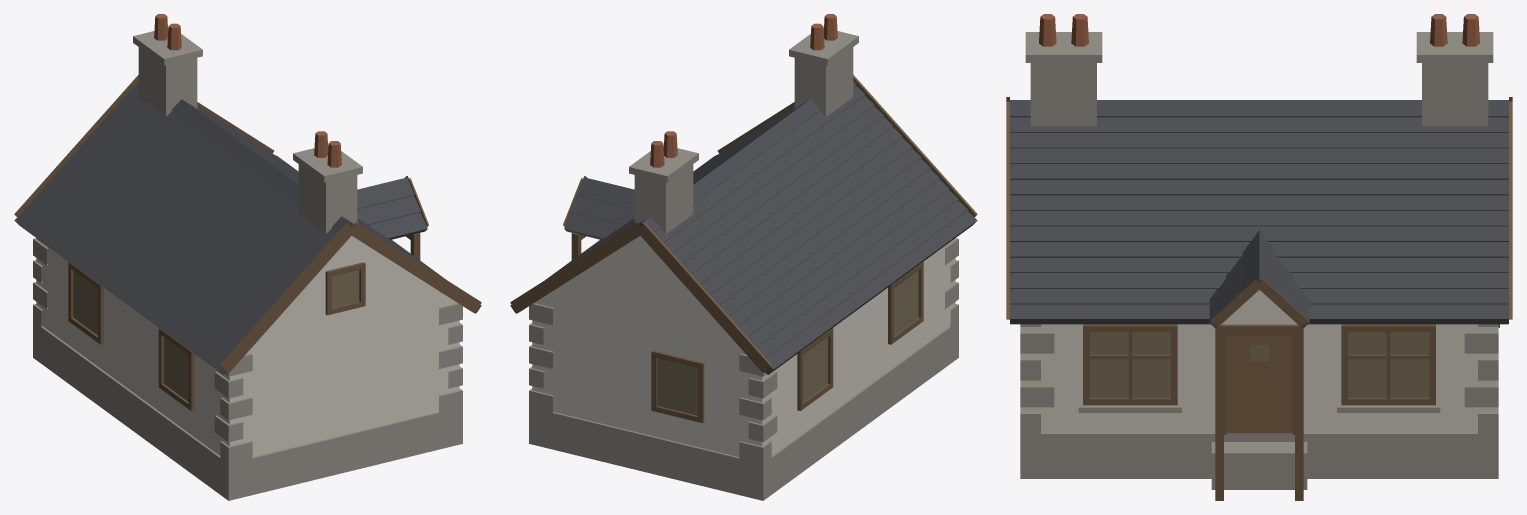
The model's file is house_cottage_b.glb.
The picture shows the model from 3 angles, left to right: view 1: azimuth 30°, elevation 25°; view 2: azimuth 150°, elevation 25°; view 3: azimuth 270°, elevation 25°; orthographic projection. The views are drawn at different scales.
Visible parts, largest first — view 1: house_cottage_b_lod0; view 2: house_cottage_b_lod0; view 3: house_cottage_b_lod0.
Boxes of the visible parts, x1,y1,x2,y2 form: house_cottage_b_lod0: [14, 14, 481, 500]; house_cottage_b_lod0: [510, 14, 977, 500]; house_cottage_b_lod0: [1006, 14, 1512, 500].
Size of what is drawn, in the model's own units: 5.6 by 5.87 by 6.86.
